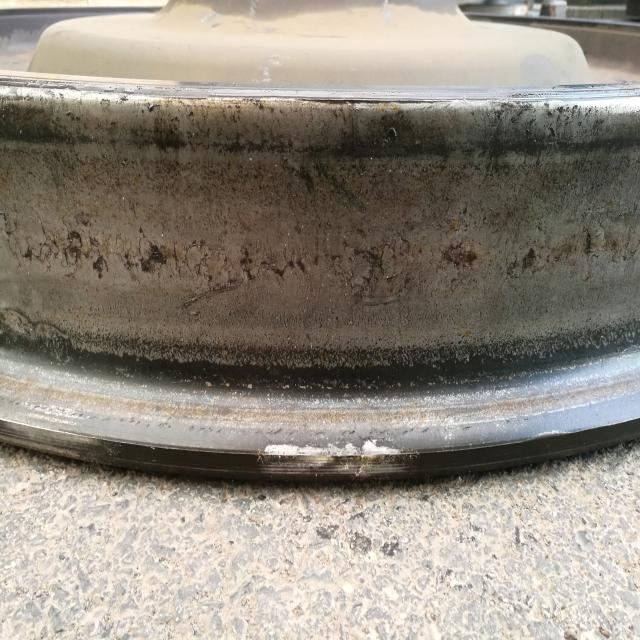Peeling: (443, 247, 482, 275), (141, 240, 168, 277), (61, 232, 85, 267), (359, 249, 386, 278), (239, 251, 255, 282), (522, 249, 538, 274), (584, 230, 596, 261), (288, 255, 306, 275), (94, 255, 108, 278), (275, 264, 286, 282)
